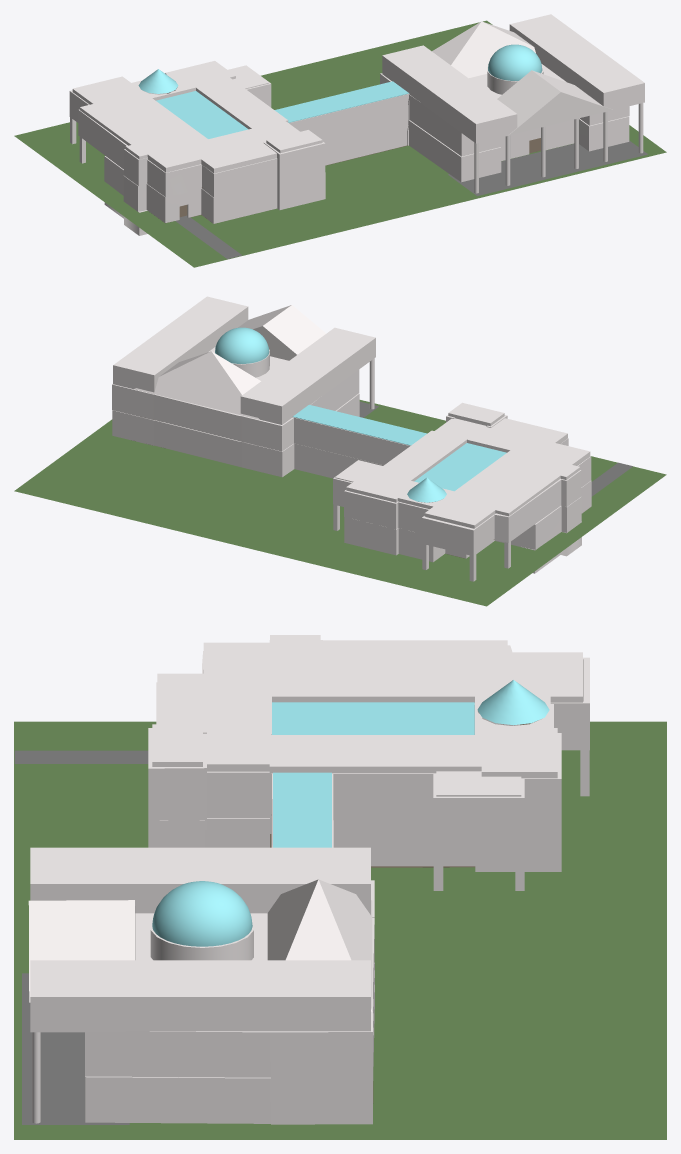
The model's file is fitzmuseumall.glb.
The picture shows the model from 3 angles, top to bottom: view 1: azimuth 30°, elevation 25°; view 2: azimuth 150°, elevation 25°; view 3: azimuth 270°, elevation 25°; orthographic projection. The views are drawn at different scales.
Parts seen in each view (by area): view 1: Plane001, Box383 (×3), Box386 (×3), Plane002 (×2), Box385 (×2), Prism001, Box391 (×2), Box220, Pyramid001, Box063, Box060, Box389 (+23 smaller); view 2: Plane001, Box383 (×3), Box386 (×3), Pyramid001, Box385 (×2), Box391 (×2), Box220, Prism001, Box224, Box064, Room033, Room 047 (+19 smaller); view 3: Plane001, Box383 (×3), Box386 (×4), Box391 (×2), Box385 (×2), Box211, Box226, Plane002 (×2), Pyramid001, Prism001, Box389, Sphere047 (+18 smaller).
Part boxes in pixels (<box>): Plane001: <box>14,20,666,267</box>; Box383 (×3): <box>266,14,644,153</box>; Box386 (×3): <box>72,61,268,164</box>; Plane002 (×2): <box>175,140,647,258</box>; Box385 (×2): <box>156,81,409,138</box>; Prism001: <box>497,70,612,135</box>; Box391 (×2): <box>192,72,299,142</box>; Box220: <box>289,93,408,140</box>; Pyramid001: <box>432,21,535,78</box>; Box063: <box>408,120,501,182</box>; Box060: <box>322,119,408,165</box>; Box389: <box>183,129,276,173</box>; Plane001: <box>14,400,666,606</box>; Box383 (×3): <box>113,296,504,426</box>; Box386 (×3): <box>335,436,578,528</box>; Pyramid001: <box>134,351,260,419</box>; Box385 (×2): <box>293,404,506,491</box>; Box391 (×2): <box>367,418,488,487</box>; Box220: <box>292,417,410,465</box>; Prism001: <box>238,305,326,360</box>; Box224: <box>153,394,241,441</box>; Box064: <box>153,420,241,467</box>; Room033: <box>421,513,495,556</box>; Room 047: <box>494,478,561,542</box>; Plane001: <box>14,721,666,1139</box>; Box383 (×3): <box>30,724,370,1032</box>; Box386 (×4): <box>204,635,582,796</box>; Box391 (×2): <box>203,731,510,775</box>; Box385 (×2): <box>272,702,474,847</box>; Box211: <box>85,1076,270,1123</box>; Box226: <box>85,1031,272,1077</box>; Plane002 (×2): <box>14,750,148,1124</box>; Pyramid001: <box>267,879,372,1011</box>; Prism001: <box>28,900,135,1002</box>; Box389: <box>157,673,271,734</box>; Sphere047: <box>152,881,252,946</box>.
Size of the model in its own units: 3.52 by 0.8461 by 2.32.
